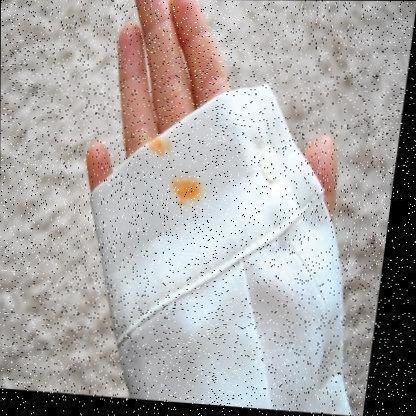kimchi: (174, 179, 199, 205), (145, 143, 168, 164)
